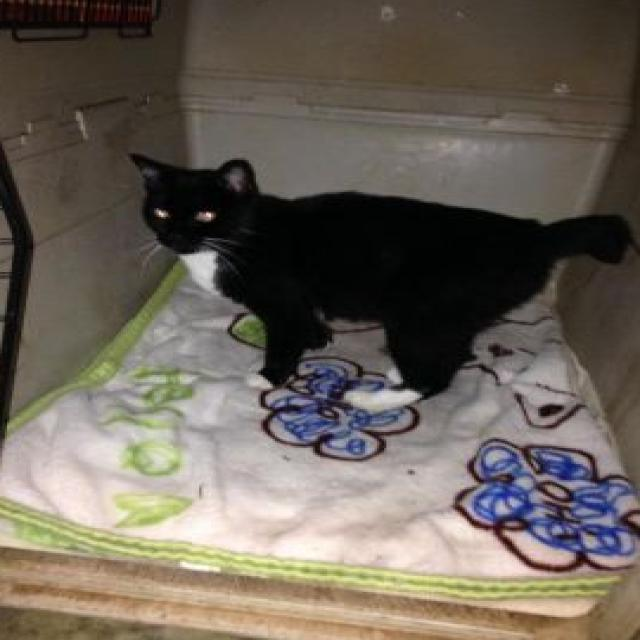American Bobtail: (123, 146, 640, 418)
